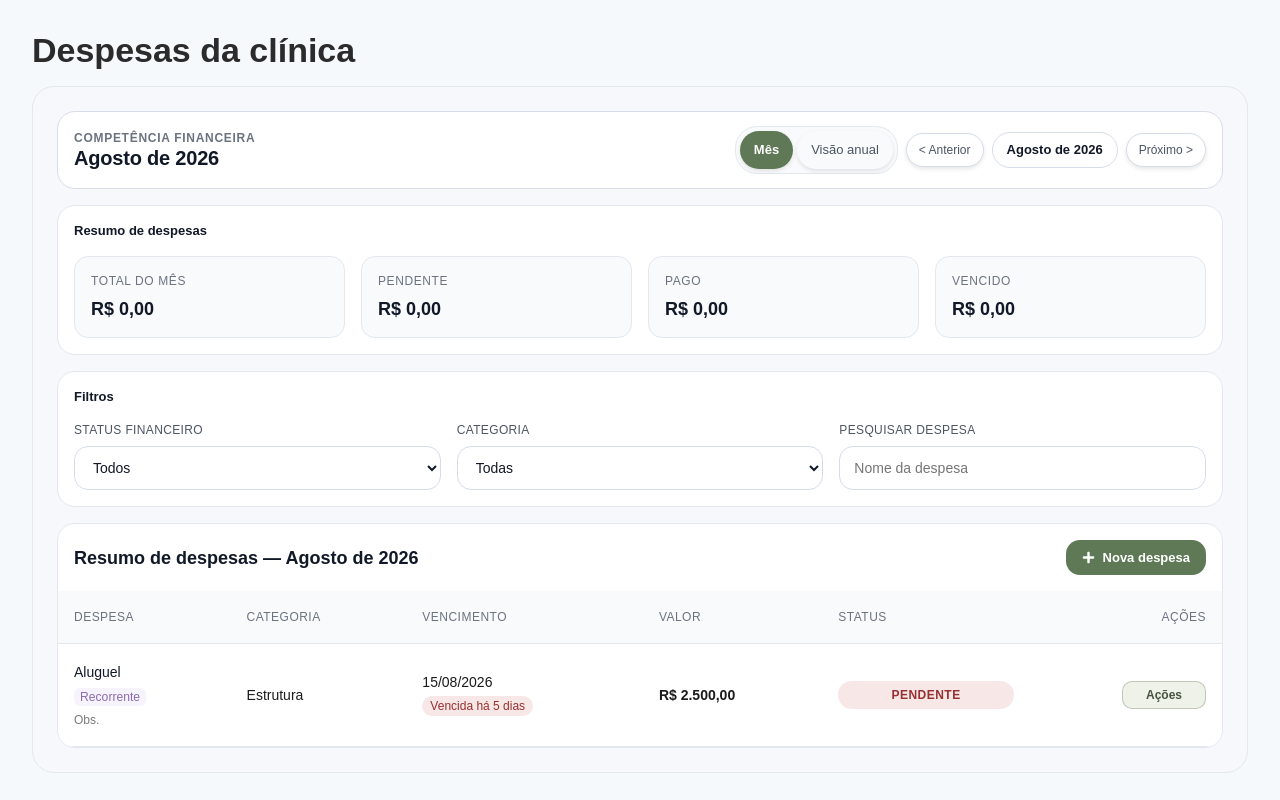
Financeiro - caracterização de despesas e configurações publicadas › cancelar a escolha recorrente não exclui e reabrir restaura somente esta
Click the heading "Ações": (1164, 695) x1=1122 y1=681 x2=1206 y2=709
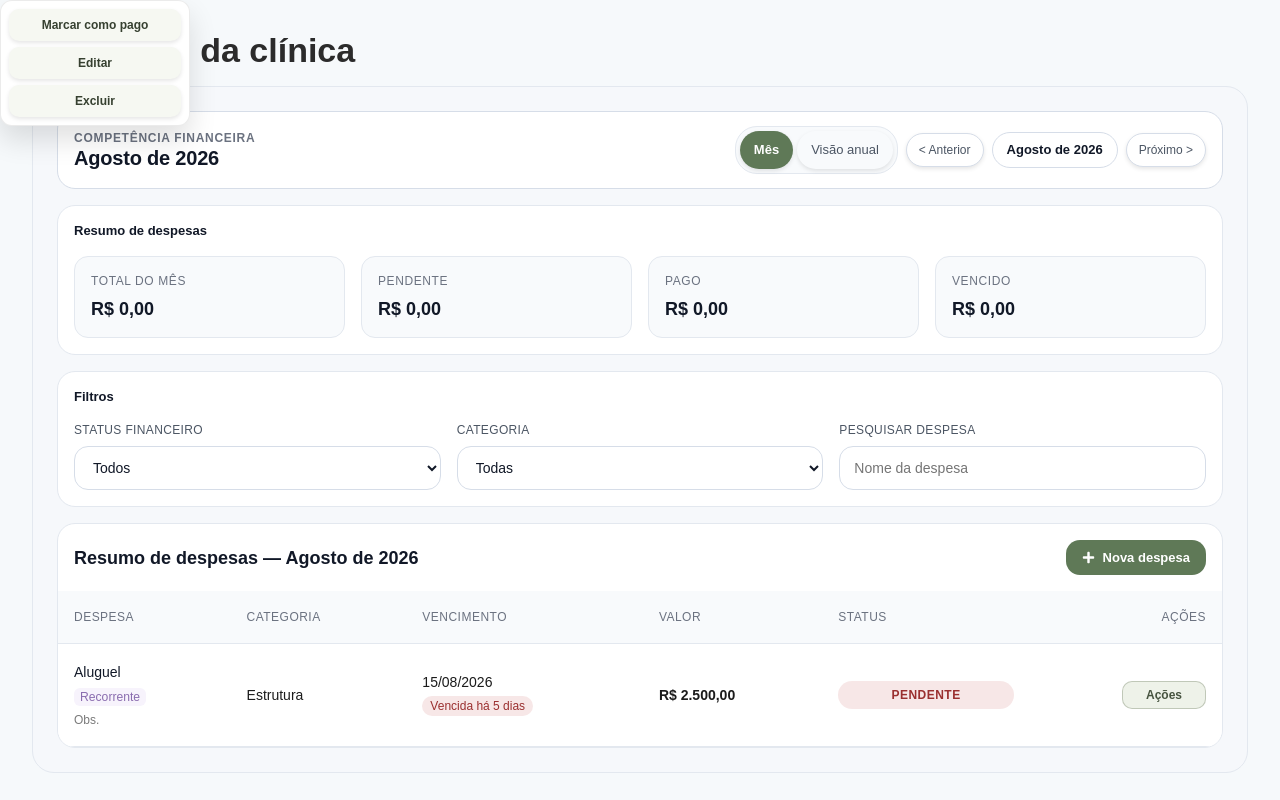
Click the button "Excluir": (95, 101) x1=9 y1=85 x2=181 y2=117
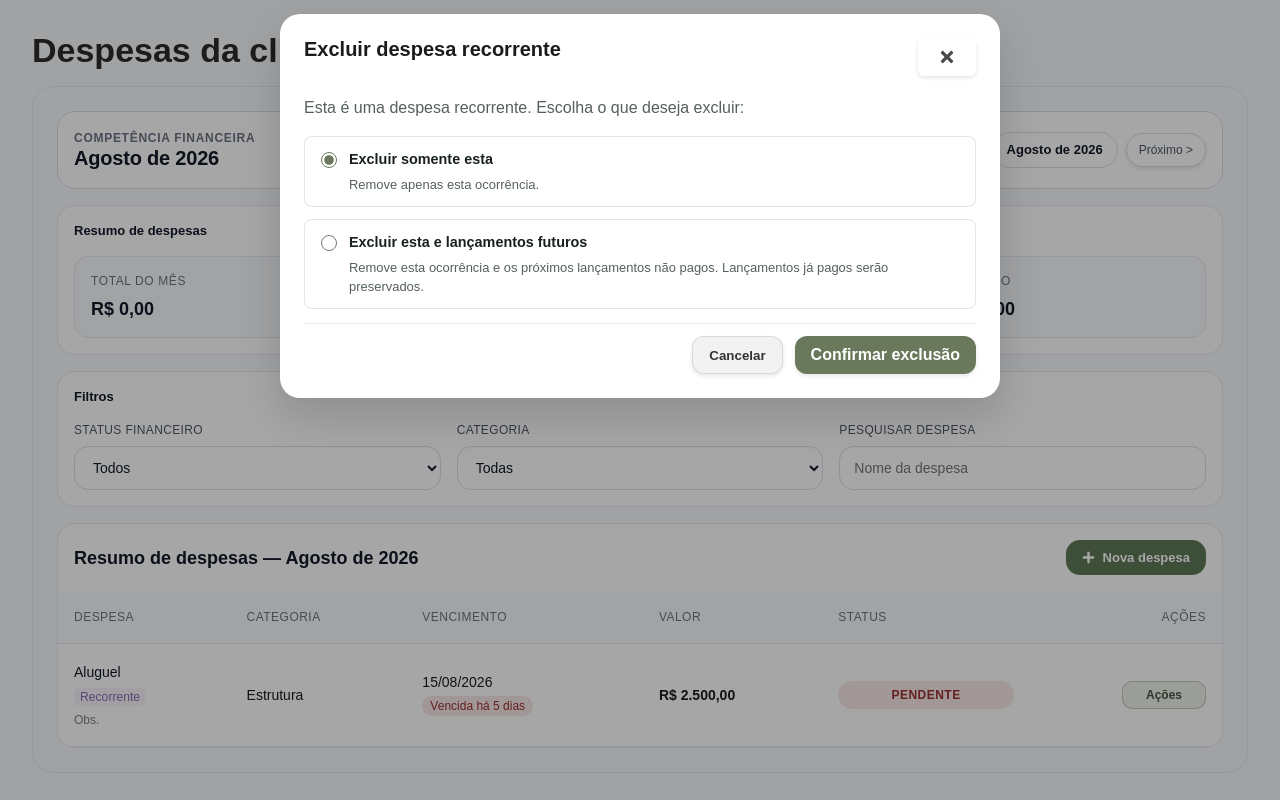
Click the radio button labelled "Excluir esta e lançamentos futuros": (329, 243) x1=321 y1=235 x2=337 y2=251
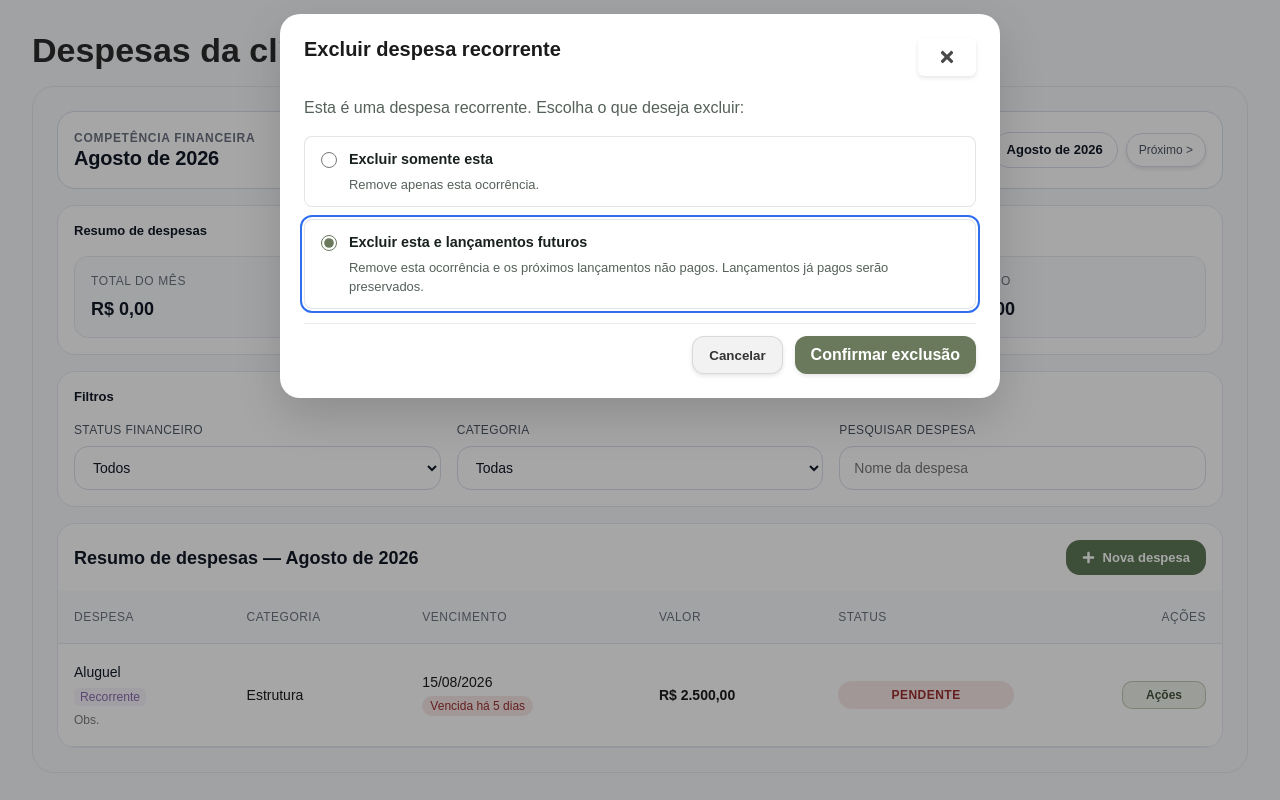
Click the button "Cancelar": (737, 356) x1=692 y1=336 x2=783 y2=374
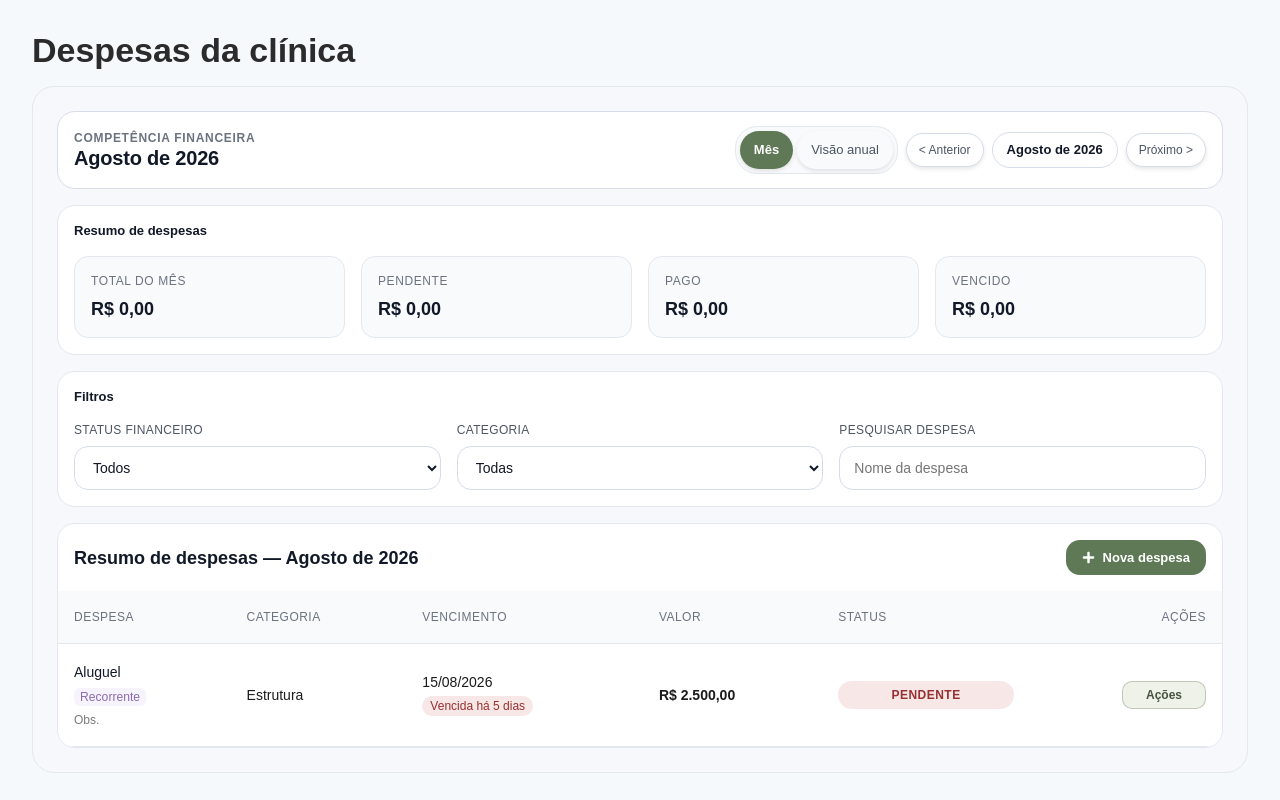
Expected: the heading "Excluir despesa recorrente" is gone
Click the heading "Ações": (1164, 695) x1=1122 y1=681 x2=1206 y2=709
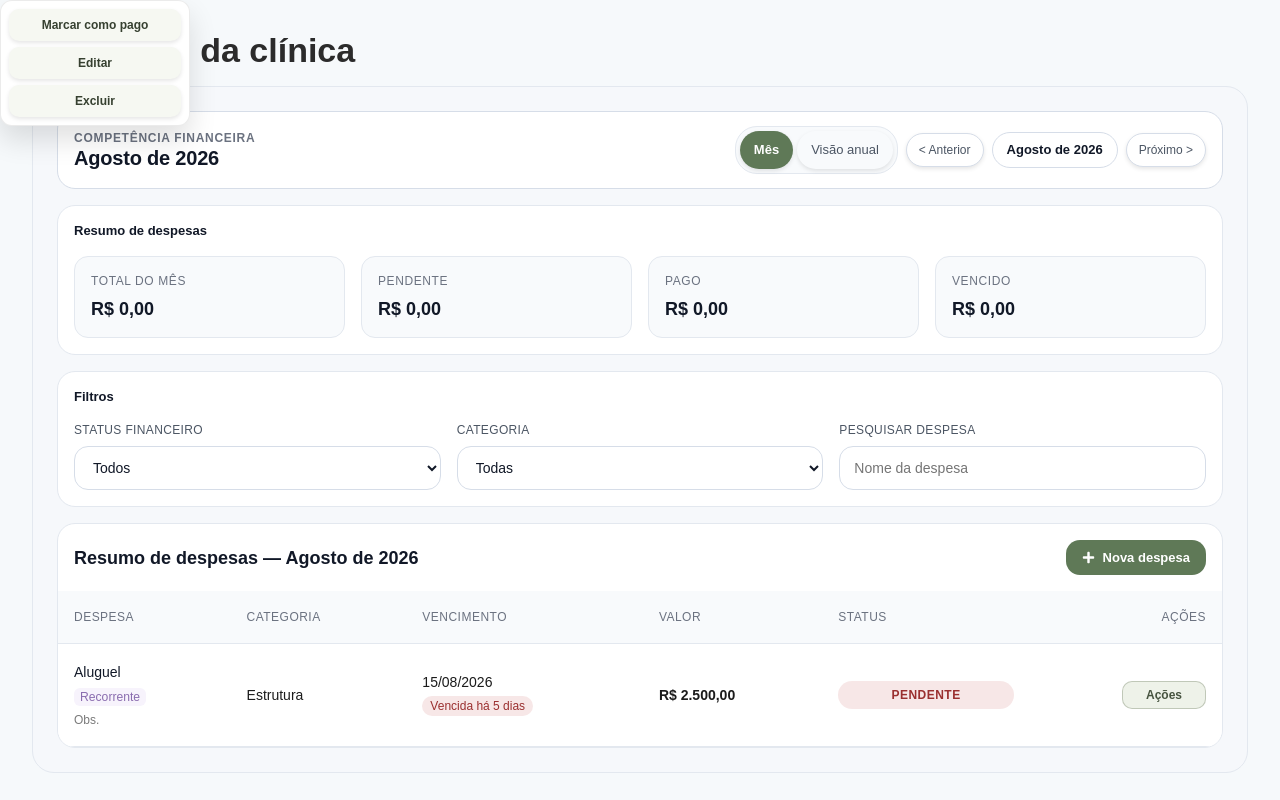
Click the button "Excluir": (95, 101) x1=9 y1=85 x2=181 y2=117
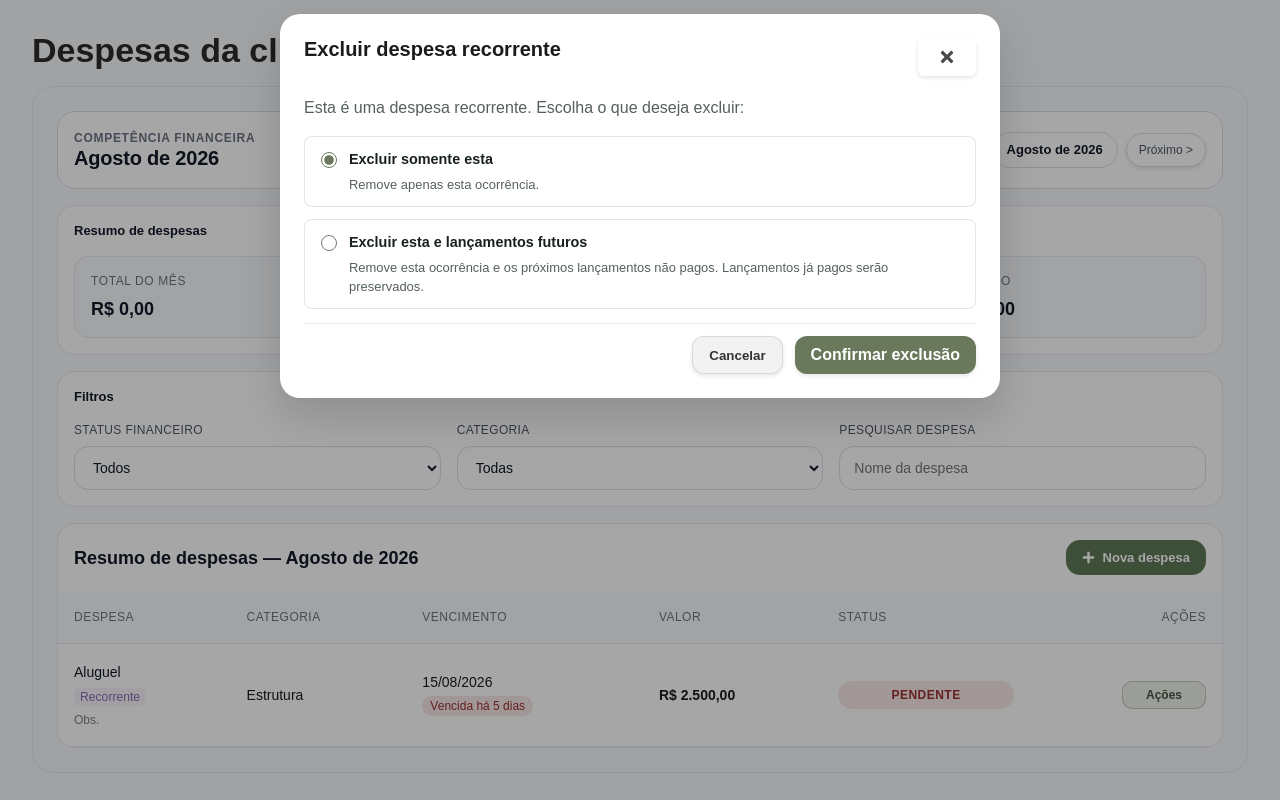
Expected: the radio button labelled "Excluir somente esta" is checked, x1=321 y1=152 x2=337 y2=168
Expected: the radio button labelled "Excluir esta e lançamentos futuros" is not checked, x1=321 y1=235 x2=337 y2=251
